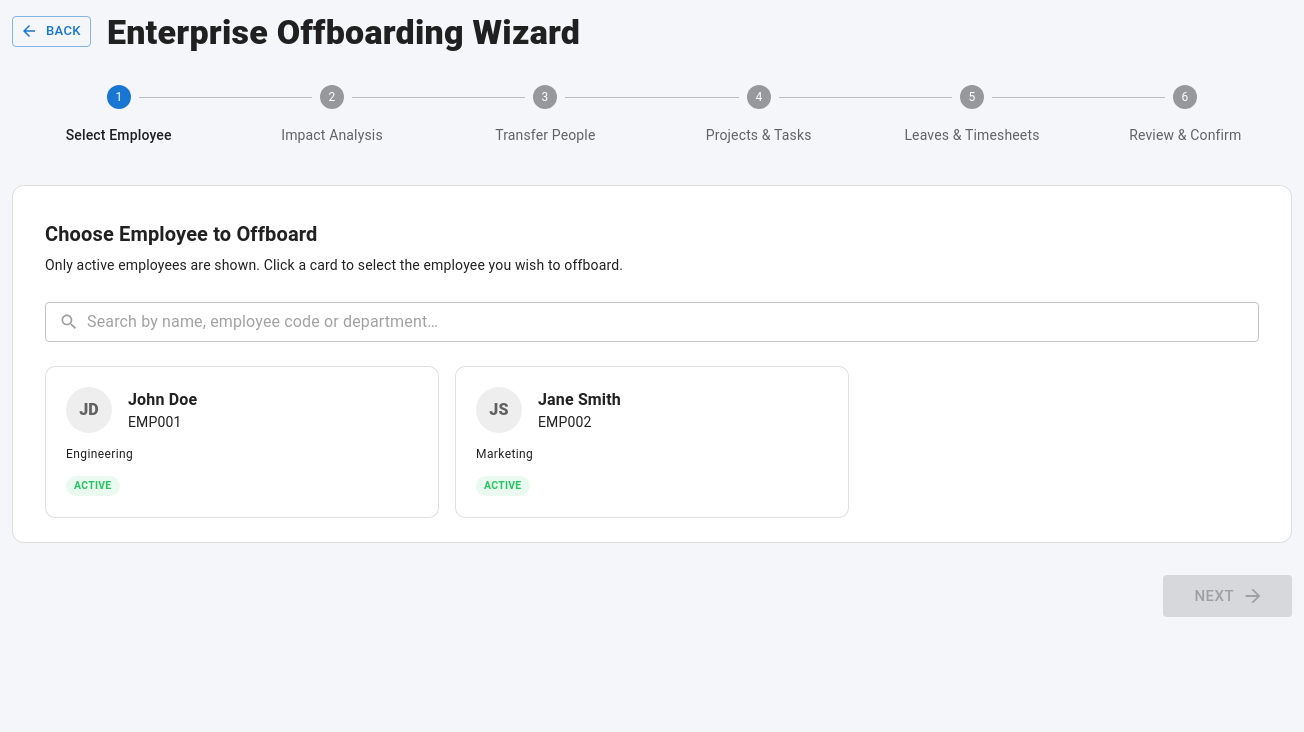
Test: OffboardingWizard › filters employees by search input
Type "Jane" into the field with placeholder "Search by name, employee code or department…". click: {"x": 673, "y": 322}
box: left=87, top=302, right=1259, bottom=342
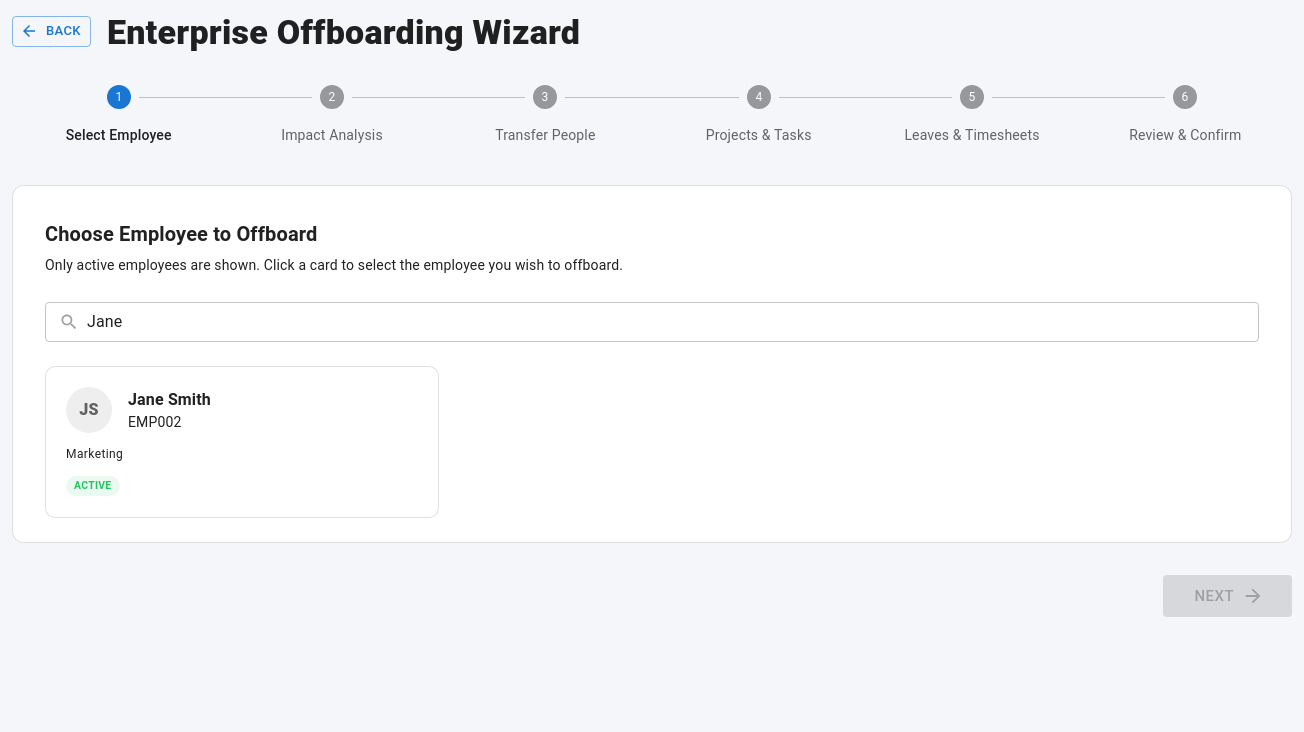
Expected: the text "Jane Smith" is shown, left=128, top=388, right=211, bottom=412
Expected: the text "John Doe" is gone
